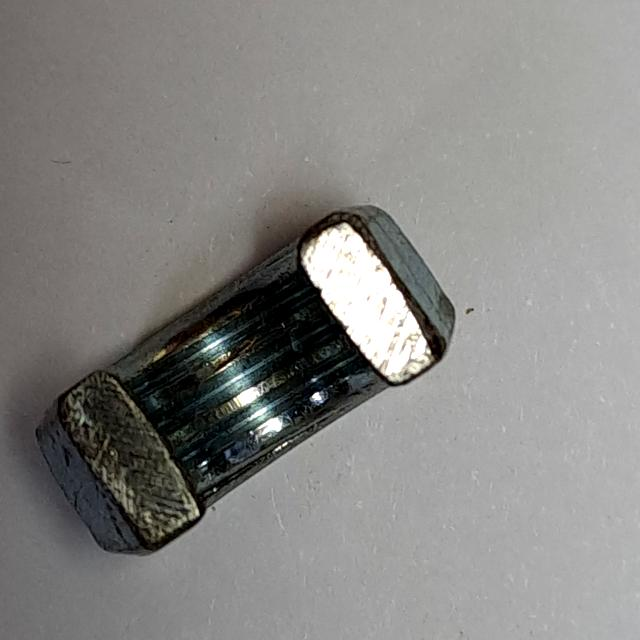Side-Fracture: (25, 196, 469, 567)
